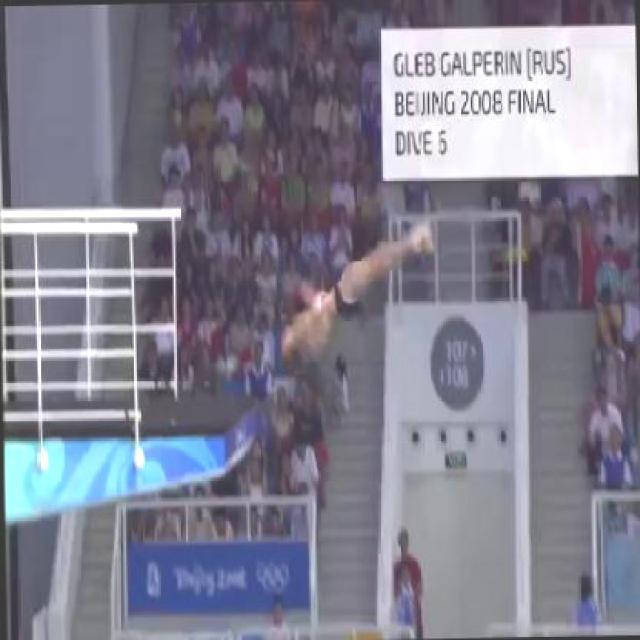non-fight: (272, 212, 436, 365)
